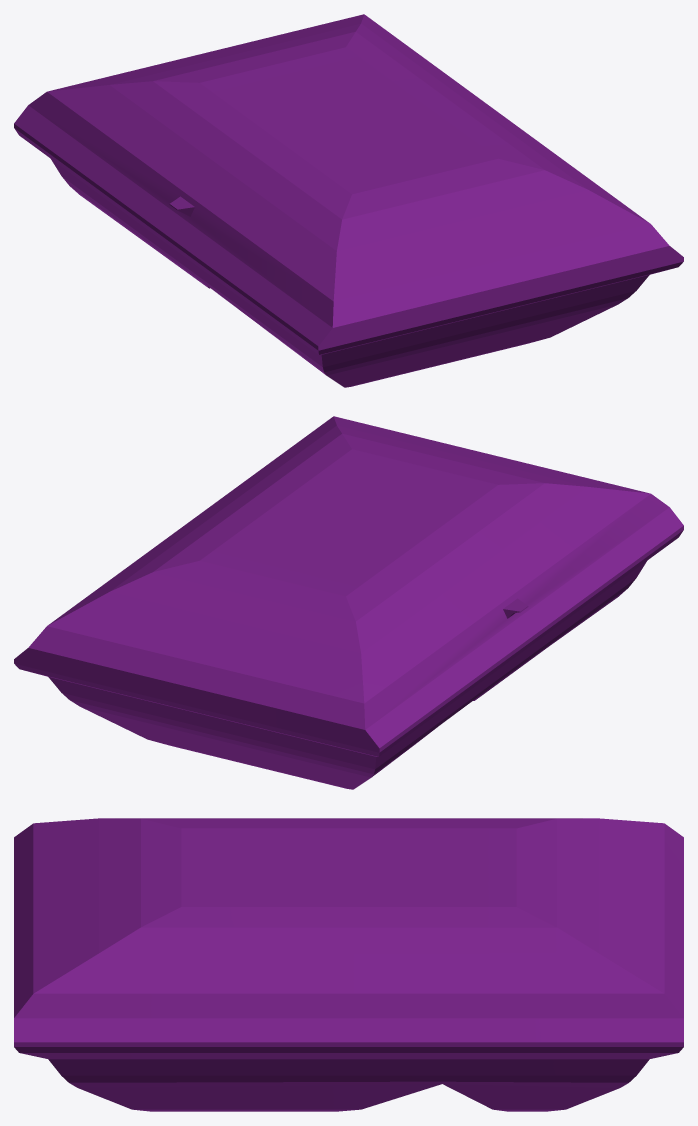
Rendered from FoodBox.glb.
The picture shows the model from 3 angles, top to bottom: view 1: azimuth 30°, elevation 25°; view 2: azimuth 150°, elevation 25°; view 3: azimuth 270°, elevation 25°; orthographic projection. The views are drawn at different scales.
Visible parts, largest first — view 1: FoodBox; view 2: FoodBox; view 3: FoodBox.
Boxes of the visible parts, x1,y1,x2,y2 form: FoodBox: (14,14,683,387); FoodBox: (14,416,683,789); FoodBox: (14,818,683,1111).
Bounding box in the file's own units: 1.65 × 0.7871 × 2.39.
1 material, 1 textured.
